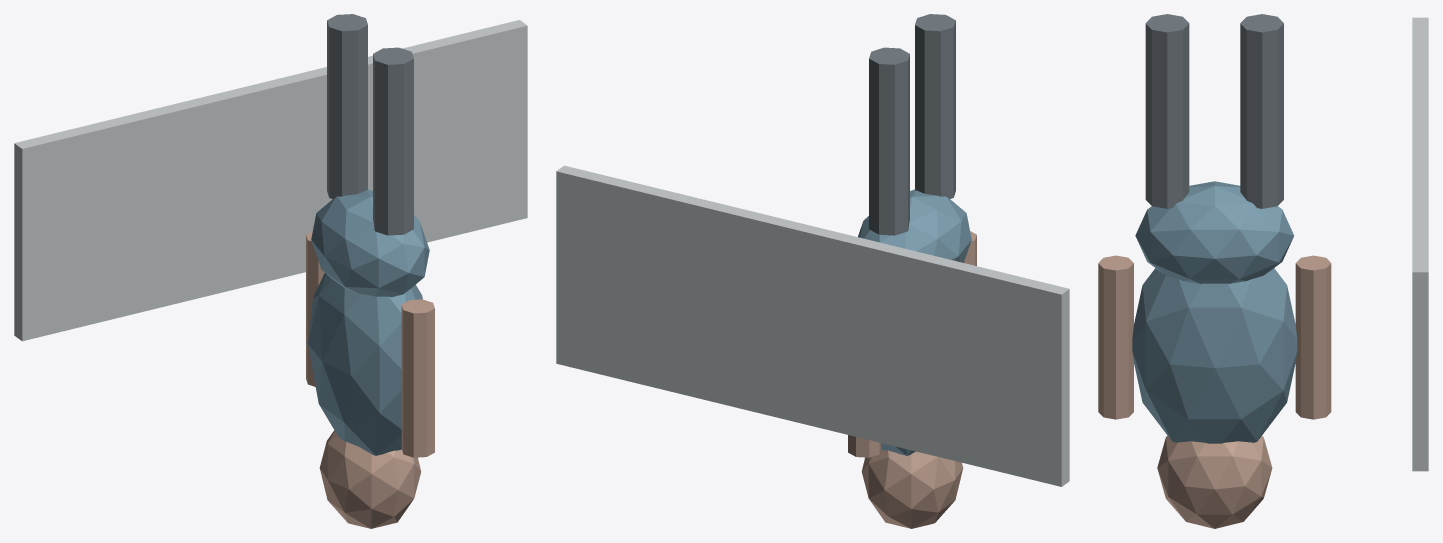
File: lateral-low.glb
3 renders of one model, left to right at view 1: azimuth 30°, elevation 25°; view 2: azimuth 150°, elevation 25°; view 3: azimuth 270°, elevation 25°, orthographic. The views are drawn at different scales.
Parts seen in each view (by area): view 1: reference_surface, torso, pelvis, left_leg, right_leg, head, left_arm, right_arm; view 2: reference_surface, right_leg, left_leg, head, pelvis, right_arm; view 3: torso, pelvis, left_leg, right_leg, head, reference_surface, right_arm, left_arm.
Boxes of the visible parts, box(x1,y1,x2,y2) form: reference_surface: box(14, 20, 527, 341); torso: box(308, 273, 422, 455); pelvis: box(311, 189, 429, 297); left_leg: box(373, 47, 413, 235); right_leg: box(327, 14, 367, 199); head: box(319, 430, 421, 528); left_arm: box(401, 299, 434, 457); right_arm: box(306, 231, 324, 386); reference_surface: box(556, 165, 1069, 486); right_leg: box(869, 47, 909, 235); left_leg: box(915, 14, 955, 199); head: box(861, 449, 963, 528); pelvis: box(858, 189, 971, 262); right_arm: box(848, 435, 881, 457); torso: box(1132, 268, 1297, 443); pelvis: box(1135, 181, 1294, 283); left_leg: box(1145, 14, 1189, 208); right_leg: box(1240, 14, 1283, 208); head: box(1157, 435, 1272, 528); reference_surface: box(1412, 17, 1428, 471); right_arm: box(1295, 255, 1331, 419); left_arm: box(1098, 255, 1133, 419).
Size of the model in its own units: 4.4 by 4.05 by 2.41.
